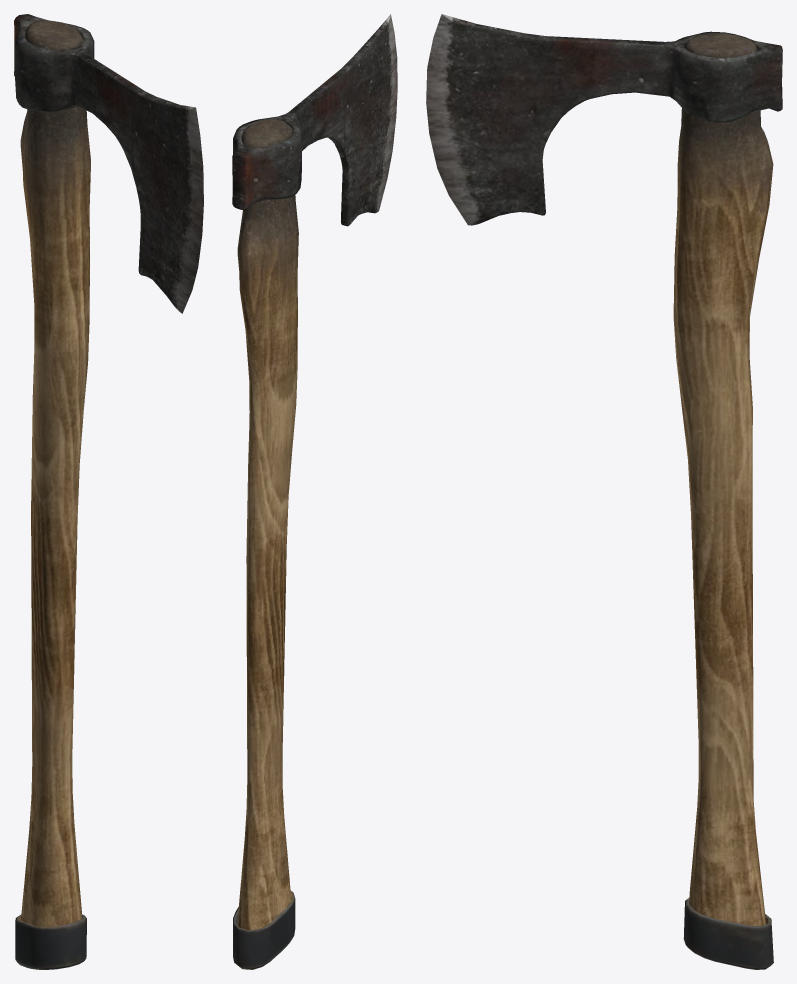
The model's file is axe_hi.glb.
3 views of the same model, side by side, from view 1: azimuth 30°, elevation 25°; view 2: azimuth 150°, elevation 25°; view 3: azimuth 270°, elevation 25° (orthographic). The views are drawn at different scales.
Visible parts, largest first — view 1: wooden_axe; view 2: wooden_axe; view 3: wooden_axe.
Part boxes in pixels (x1=…): wooden_axe: x1=14, y1=14, x2=203, y2=969; wooden_axe: x1=232, y1=14, x2=397, y2=969; wooden_axe: x1=426, y1=14, x2=782, y2=969.
Bounding box in the file's own units: 0.0472 × 0.6303 × 0.2142.
Materials: 1 (1 with a texture image).
